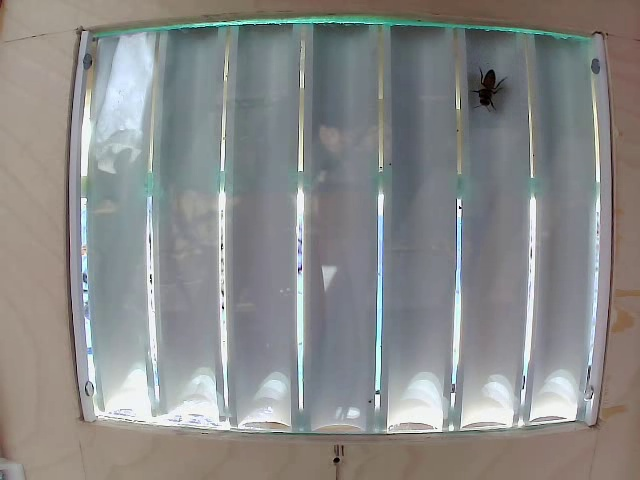bee: (456, 59, 510, 126)
